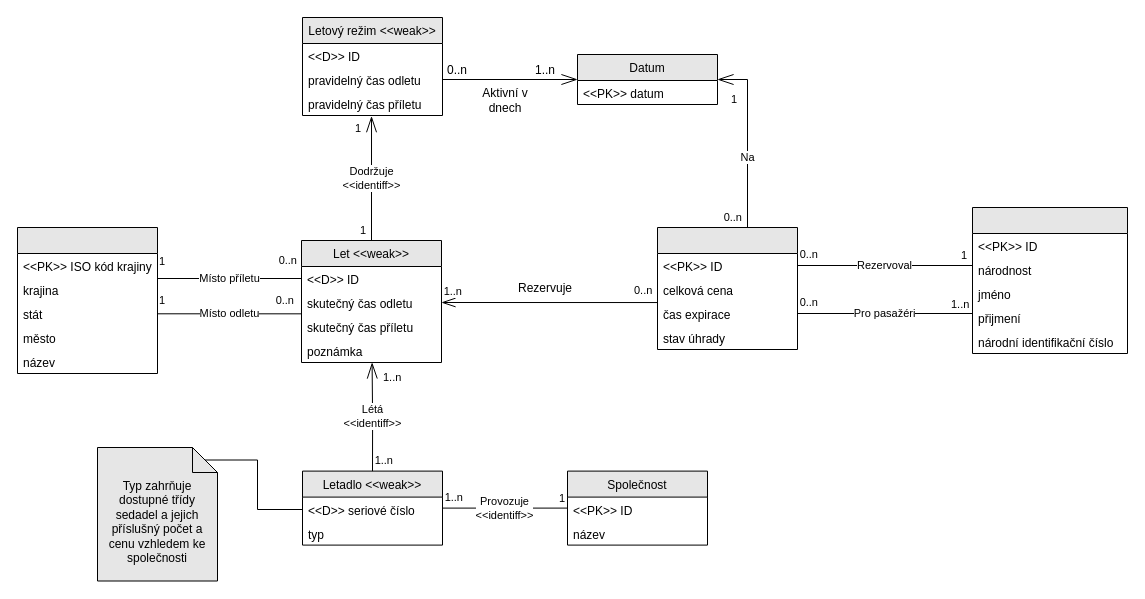
Some shapes in this 1145 by 599 pixel diagram are drawn without their labels. The shapes that lost their labels are listed below. From the top down, each one's box as (x1, y1, x2, y2) in pixels, then its label:
(16, 226, 158, 374): Letiště
(656, 226, 798, 350): Košík
(972, 206, 1128, 354): Zákazník
